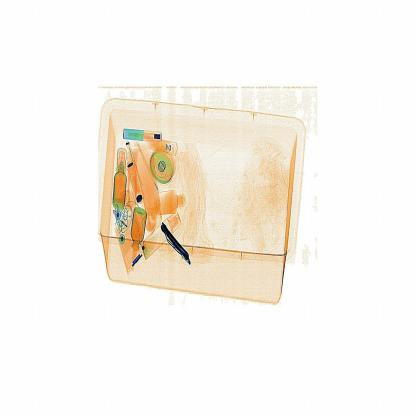knife: (156, 224, 204, 272)
